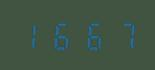one: (18, 20, 46, 50)
seven: (105, 20, 133, 50)
six: (47, 20, 75, 50), (76, 20, 104, 50)
